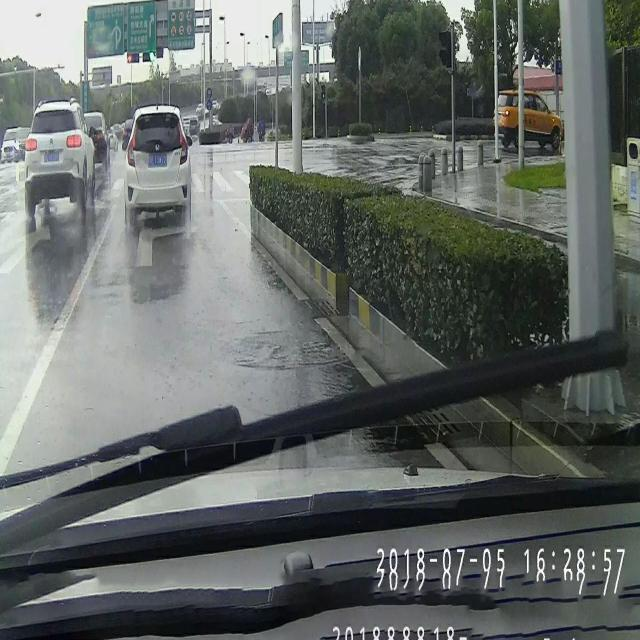car: (22, 95, 95, 216), (124, 104, 192, 228), (496, 88, 564, 148), (82, 110, 115, 172)
